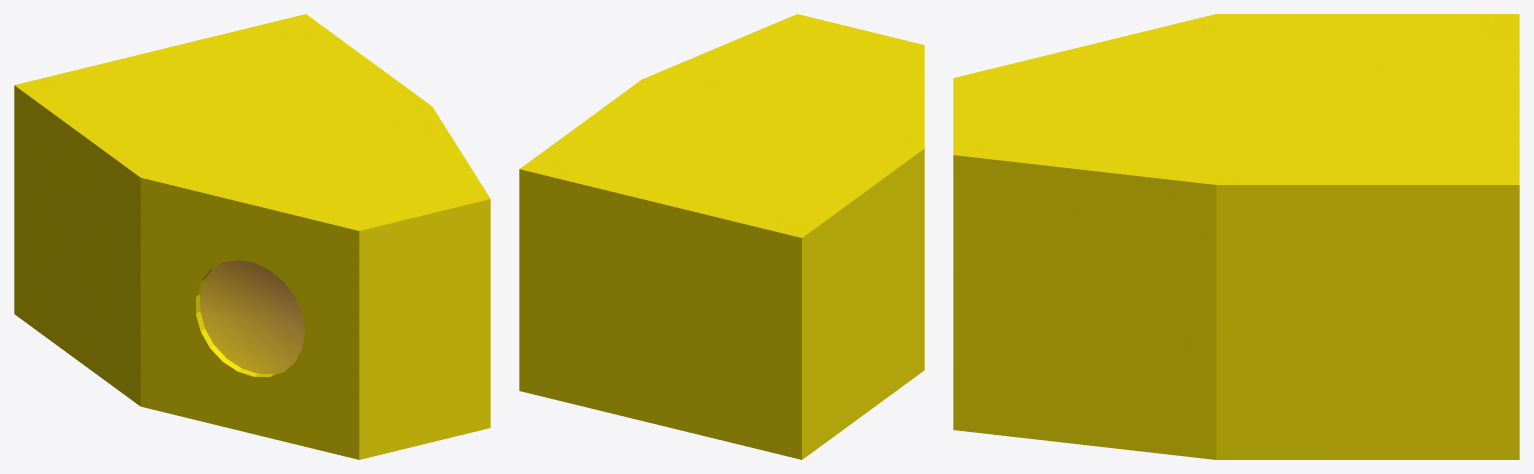
The model's file is bin_yellow.dae.
The picture shows the model from 3 angles, left to right: view 1: azimuth 30°, elevation 25°; view 2: azimuth 150°, elevation 25°; view 3: azimuth 270°, elevation 25°; orthographic projection. The views are drawn at different scales.
Parts seen in each view (by area): view 1: node; view 2: node; view 3: node.
Boxes of the visible parts, box(x1,y1,x2,y2) form: node: box(14, 14, 490, 459); node: box(519, 14, 924, 459); node: box(953, 14, 1519, 459).
Size of the model in its own units: 0.4 by 0.3 by 0.5598.
Materials: 1 (1 with a texture image).
